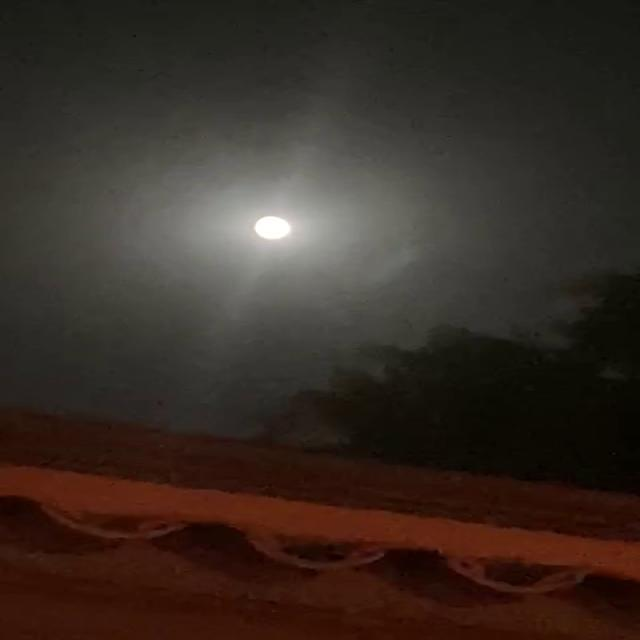moon: (256, 209, 316, 248)
